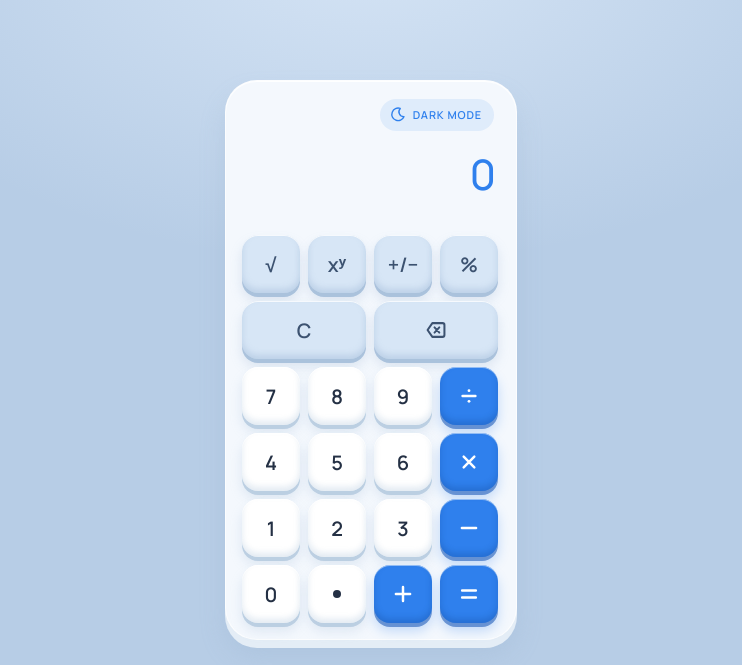
calculator UI › shows a division by zero error and lets clear recover
This screenshot has width=742, height=665.
Click the button "1": (271, 528) [242,499,300,557]
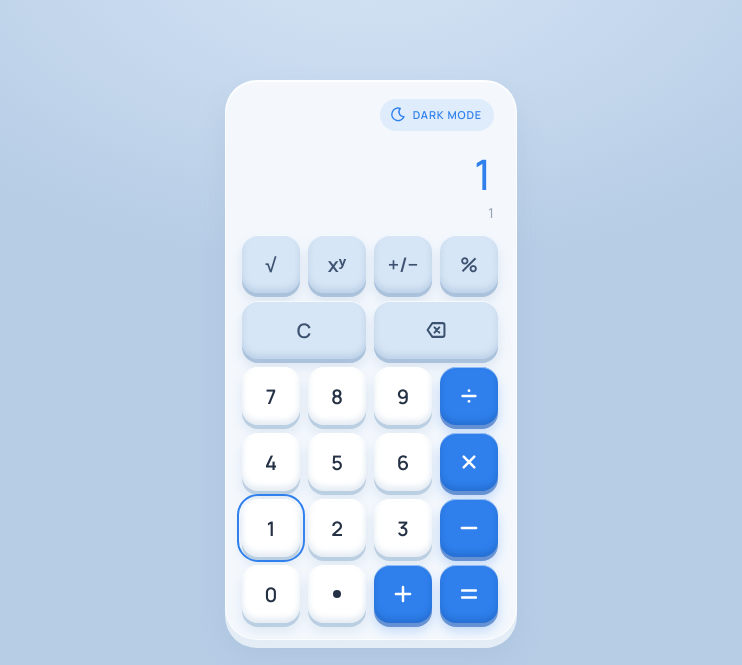
Click the button named "Divide": (469, 396) [440,367,498,425]
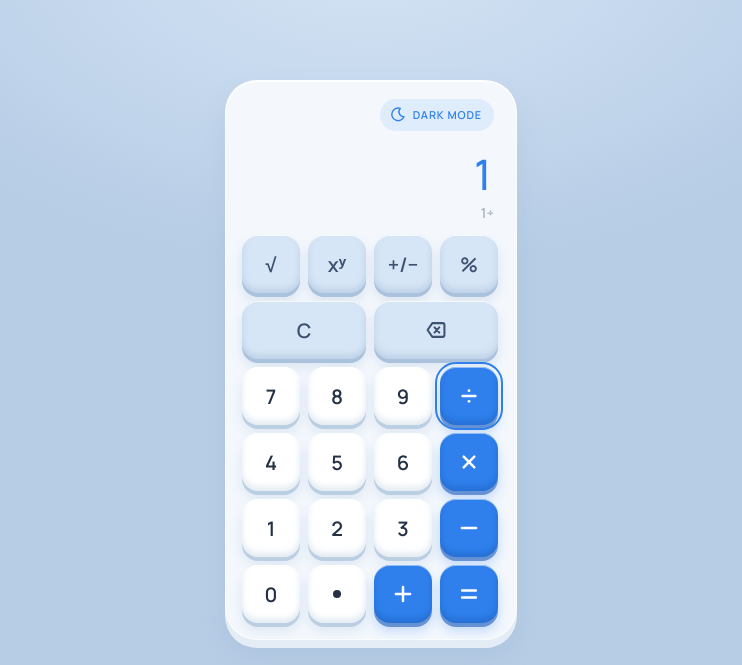
Click the button "0": (271, 594) [242,565,300,623]
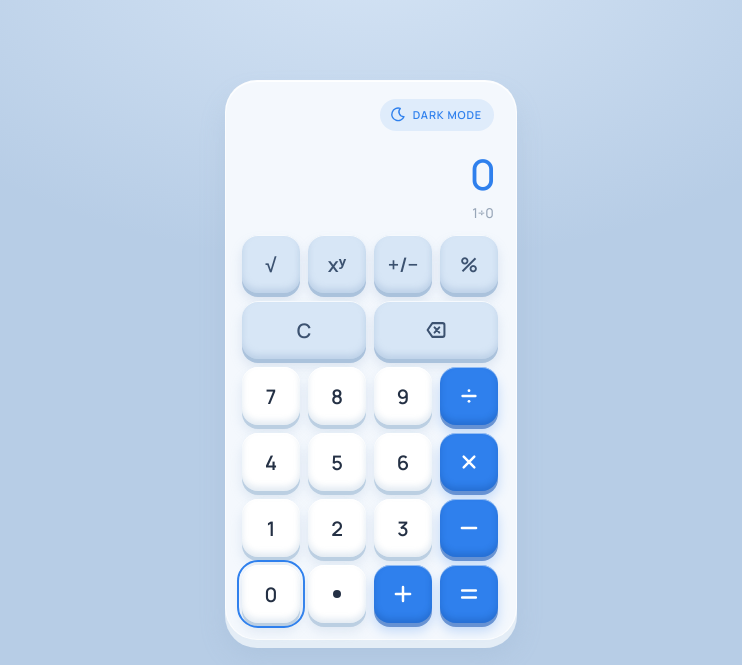
Click the button named "Equals": (469, 594) [440,565,498,623]
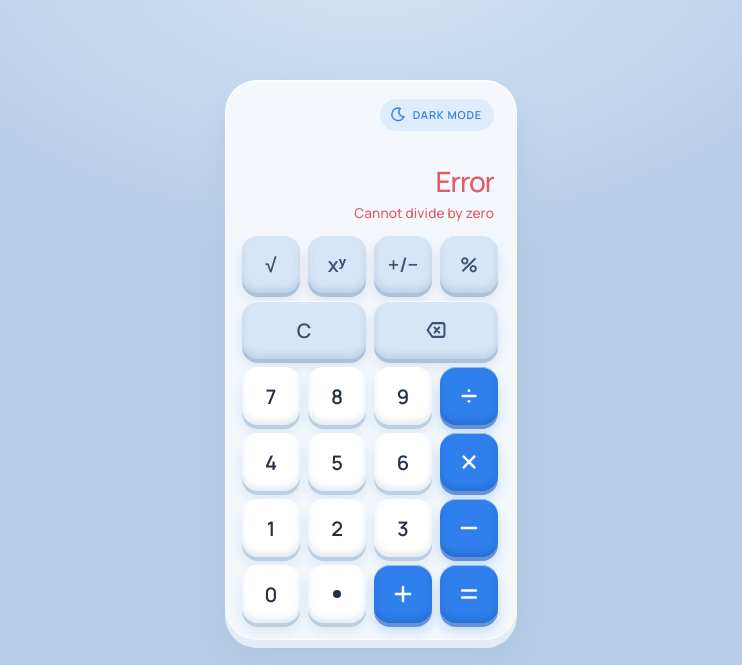
Now the text "Error" is shown, box [436,162,494,200]
Now the text "Cannot divide by zero" is shown, box [354,204,494,222]
Click the button named "Clear": (304, 330) [242,301,366,359]
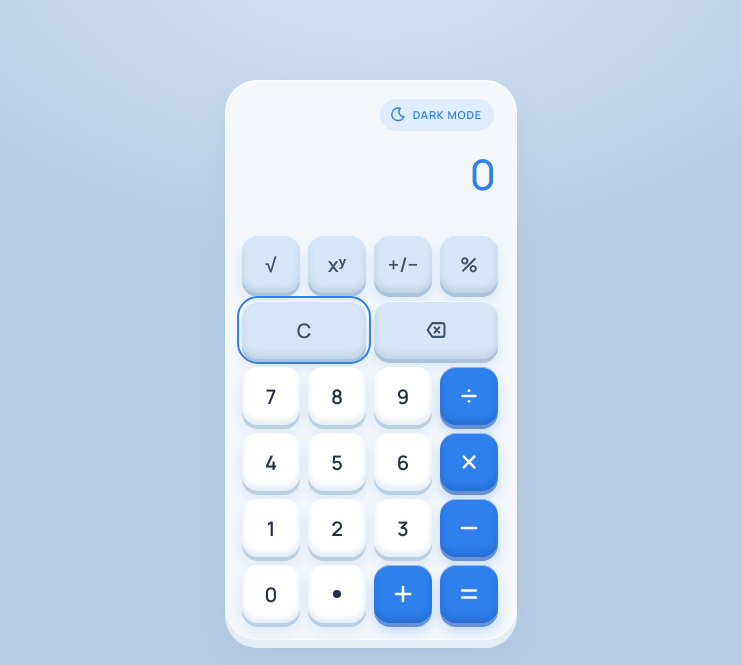
Now the text "0" is shown, box [470,145,494,203]
Now the text "Cannot divide by zero" is gone
